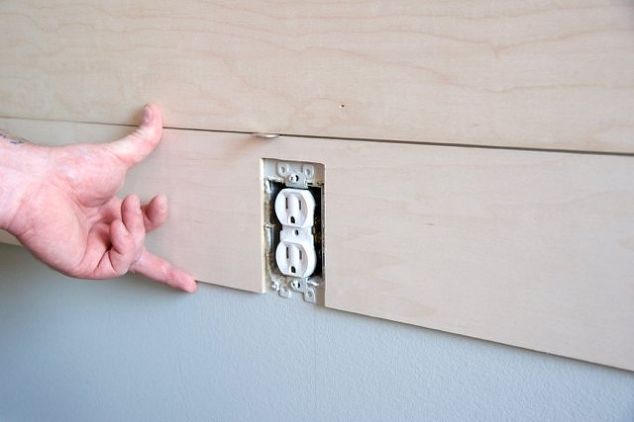outlet: (281, 243, 306, 276), (281, 193, 305, 227)
